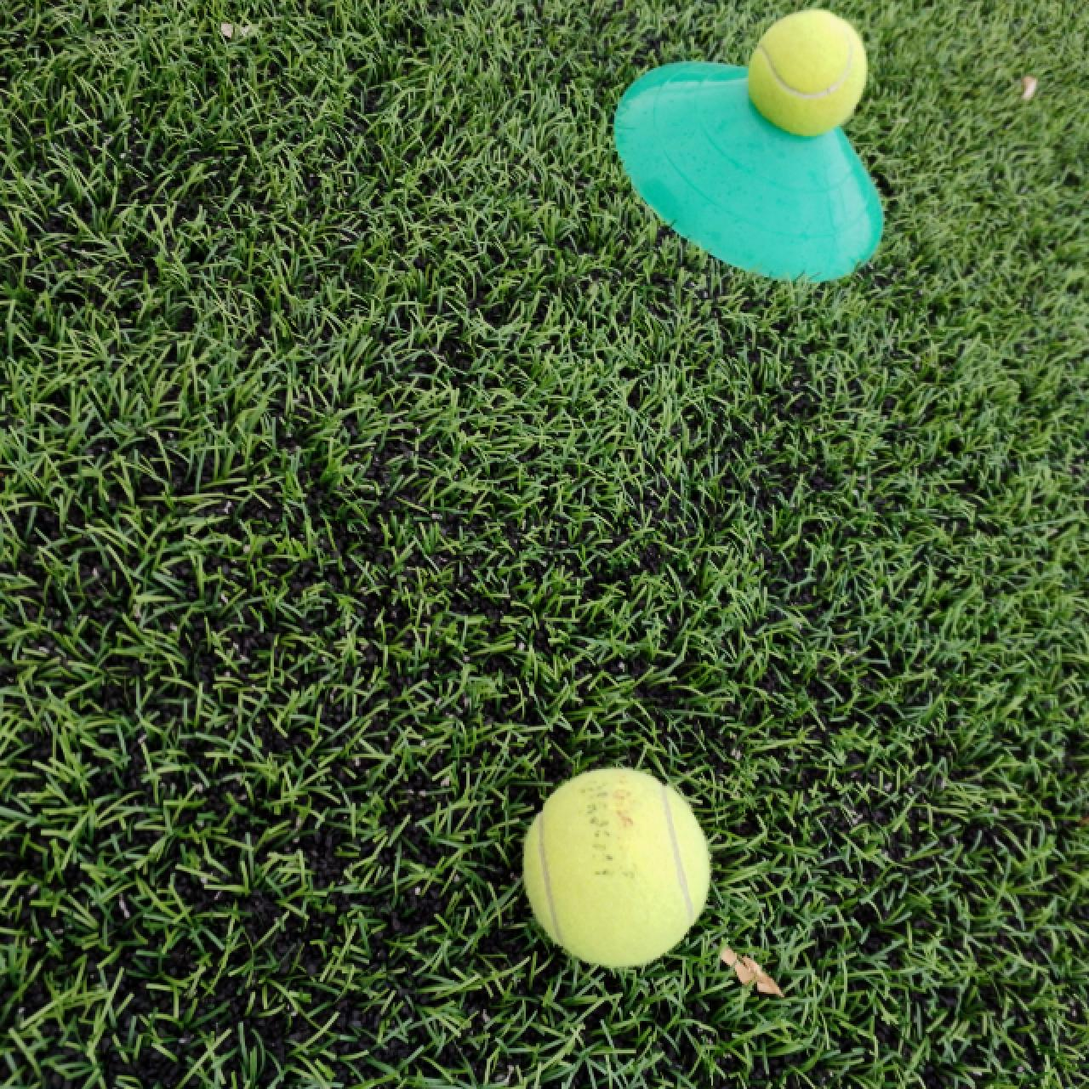tennis-ball: (521, 764, 711, 968), (747, 6, 866, 138)
